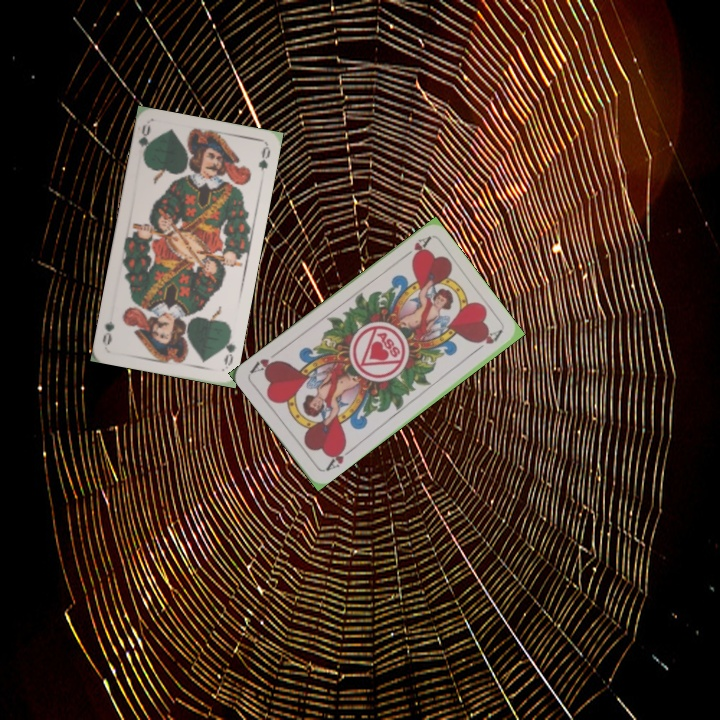GO: (134, 121, 155, 163), (218, 329, 239, 370)
HA: (321, 441, 356, 474), (397, 233, 433, 262)
